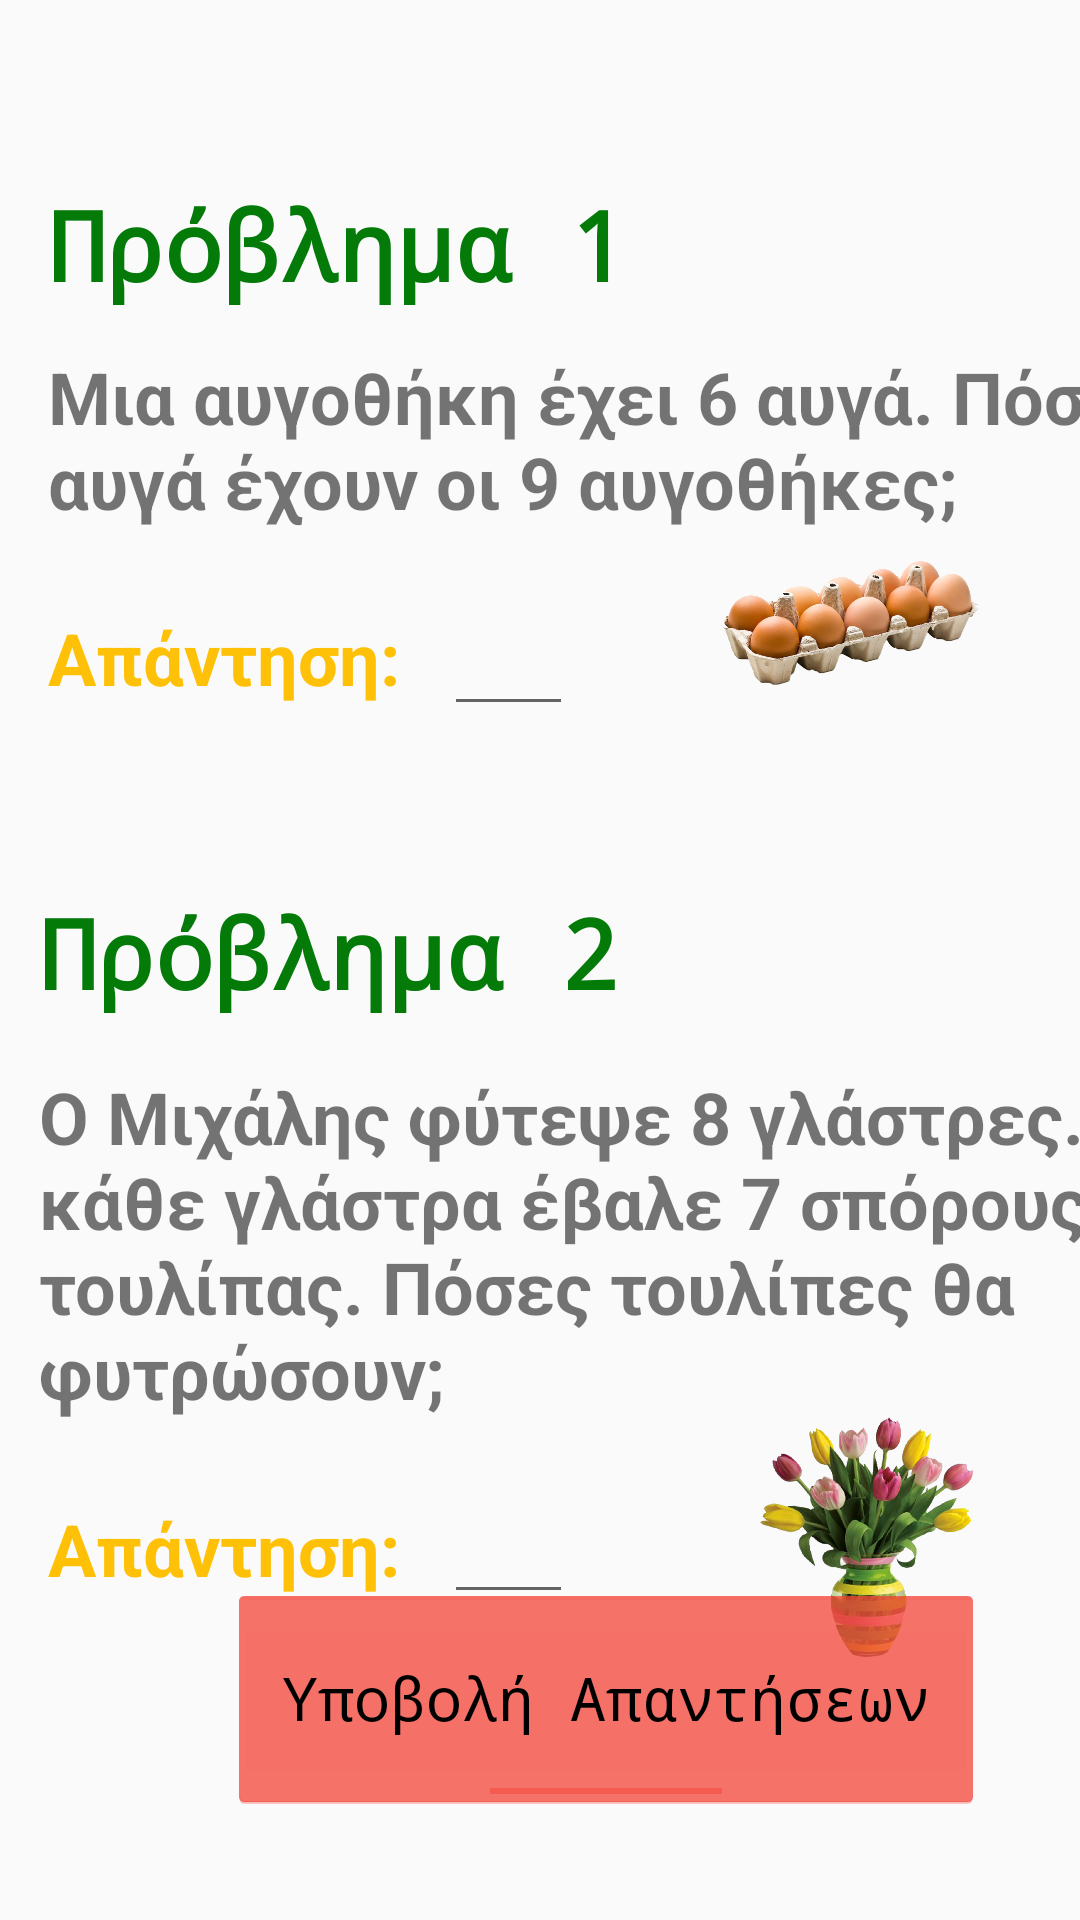

Icon bounding boxes for this 1080×1920 phone screenshot, format (x1, y1, x2, y2):
tulips: (738, 1417, 973, 1707)
